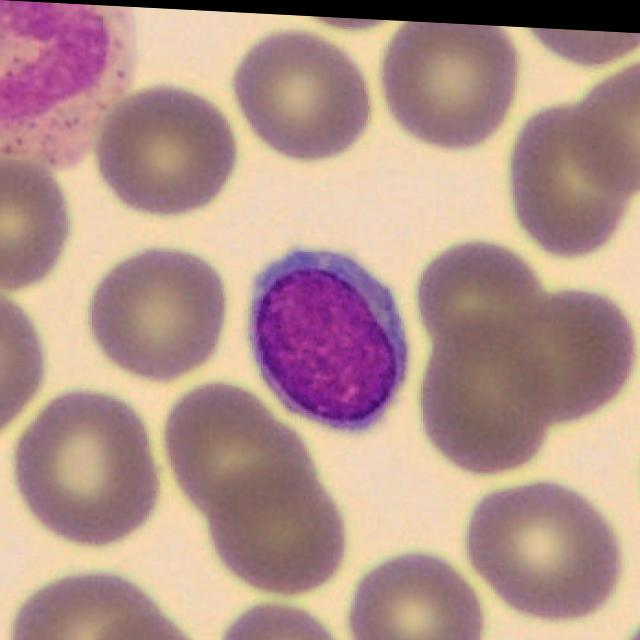Linfocito: (249, 242, 412, 429)
